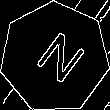N_SW: (24, 25, 85, 90)
